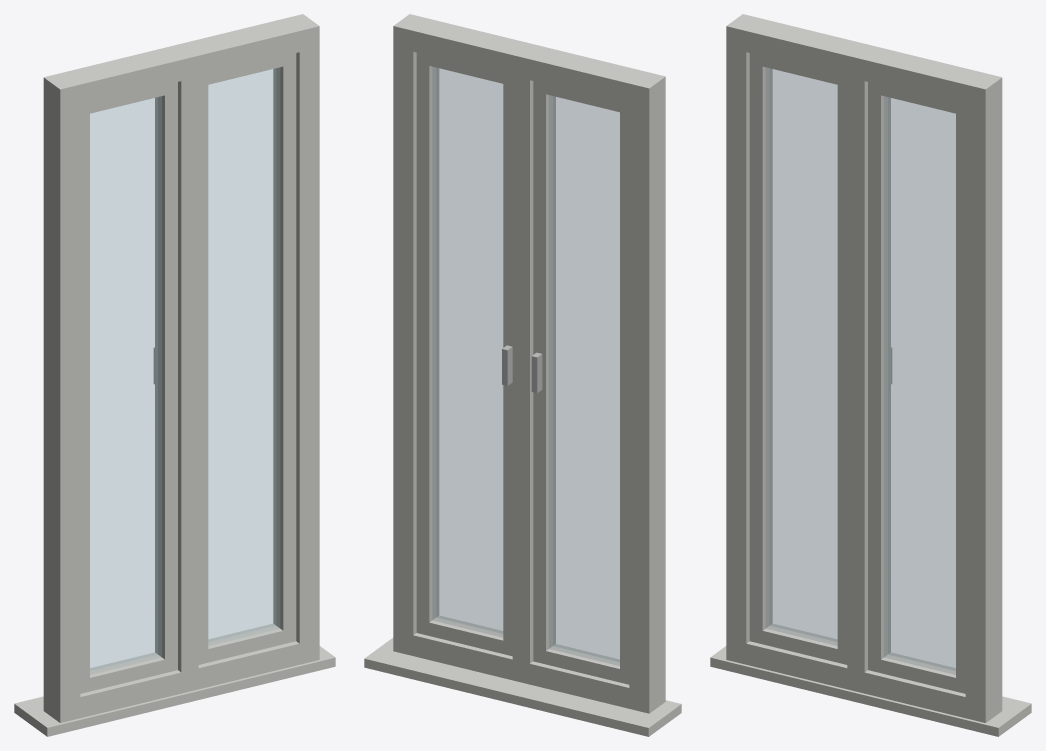
File: opening.window.casement_900x2100.glb
The picture shows the model from 3 angles, left to right: view 1: azimuth 30°, elevation 25°; view 2: azimuth 150°, elevation 25°; view 3: azimuth 330°, elevation 25°; orthographic projection.
Parts seen in each view (by area): view 1: frame__paint_white, glazing__glass; view 2: frame__paint_white, glazing__glass, ironmongery__steel_stainless; view 3: frame__paint_white, glazing__glass.
Boxes of the visible parts, <box> form: frame__paint_white: <box>14,14,335,736</box>; glazing__glass: <box>90,68,279,674</box>; frame__paint_white: <box>364,14,681,736</box>; glazing__glass: <box>432,67,619,665</box>; ironmongery__steel_stainless: <box>502,345,542,392</box>; frame__paint_white: <box>710,14,1031,736</box>; glazing__glass: <box>766,68,955,674</box>.
Bounding box in the file's own units: 1 × 2.13 × 0.2.
